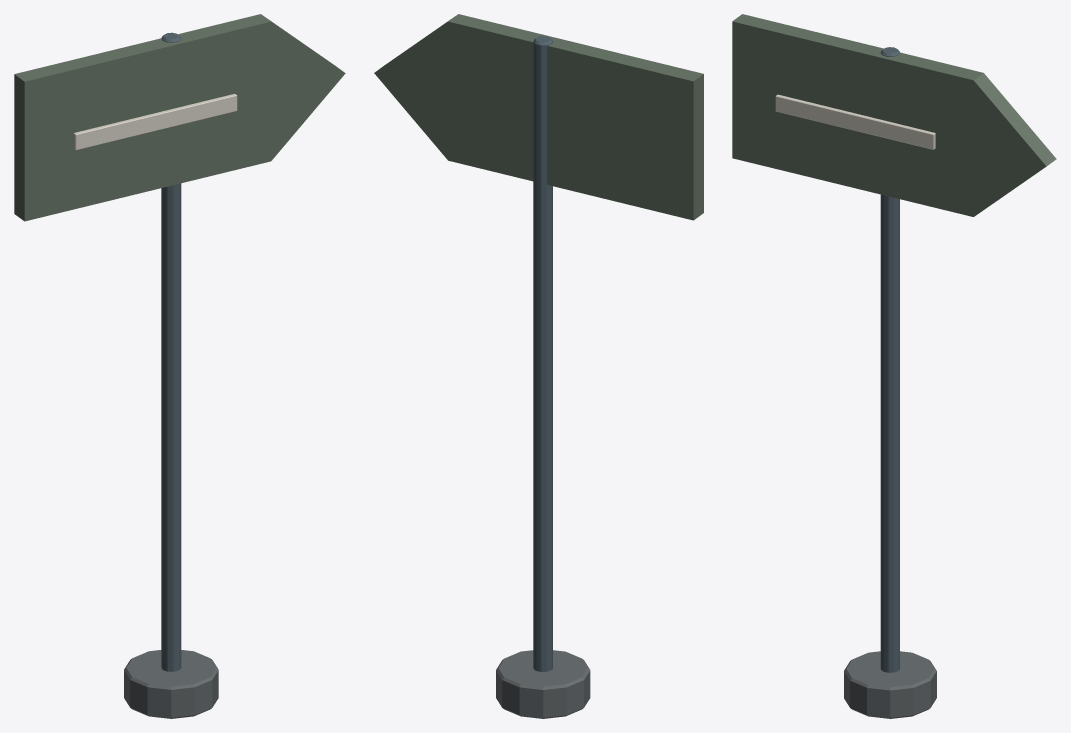
The model's file is BH_RoadSign.glb.
3 renders of one model, left to right at view 1: azimuth 30°, elevation 25°; view 2: azimuth 150°, elevation 25°; view 3: azimuth 330°, elevation 25°, orthographic. The views are drawn at different scales.
Parts seen in each view (by area): view 1: BH_RoadSign_RenderMesh; view 2: BH_RoadSign_RenderMesh; view 3: BH_RoadSign_RenderMesh.
Boxes of the visible parts, x1,y1,x2,y2 form: BH_RoadSign_RenderMesh: (14, 14, 345, 718); BH_RoadSign_RenderMesh: (374, 14, 703, 718); BH_RoadSign_RenderMesh: (732, 14, 1056, 718).
Size of what is drawn, in the model's own units: 1.25 by 2.47 by 0.32.
